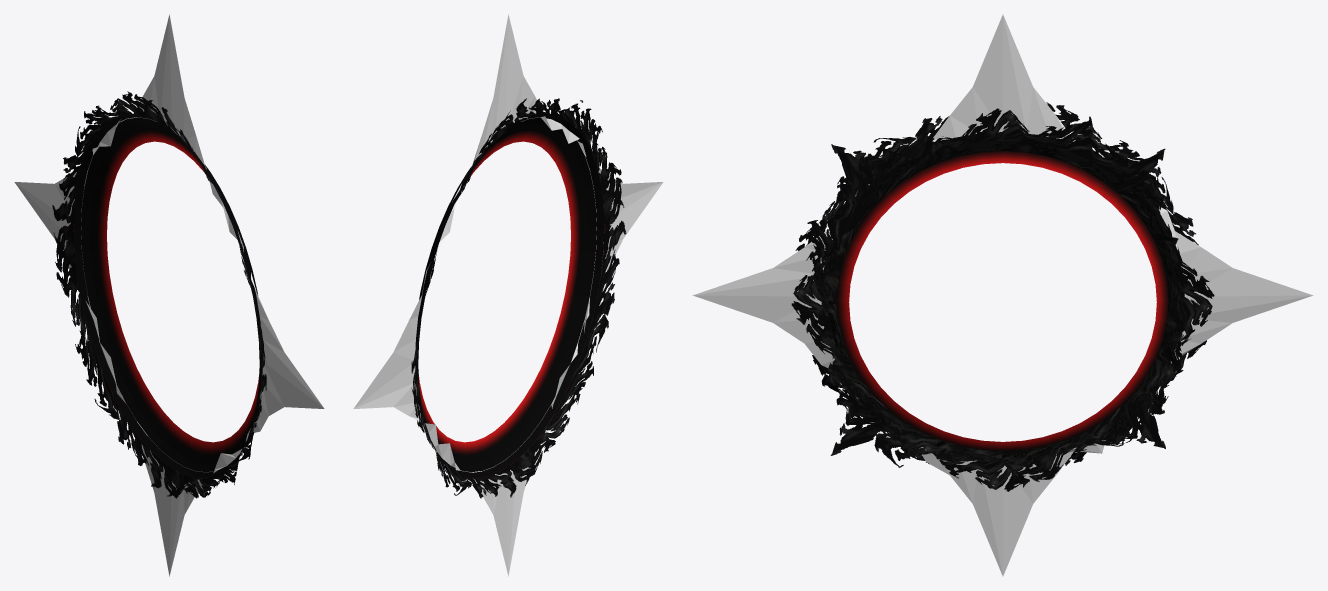
File: BigBossARing.obj
3 views of the same model, side by side, from view 1: azimuth 30°, elevation 25°; view 2: azimuth 150°, elevation 25°; view 3: azimuth 270°, elevation 25° (orthographic).
Parts seen in each view (by area): view 1: rdmobj01, rdmobj00, rdmobj02; view 2: rdmobj01, rdmobj00, rdmobj02; view 3: rdmobj02, rdmobj00, rdmobj01.
Boxes of the visible parts, left/top/right/bottom form: rdmobj01: left=73, top=114, right=262, bottom=477; rdmobj00: left=14, top=14, right=324, bottom=576; rdmobj02: left=52, top=91, right=266, bottom=498; rdmobj01: left=415, top=114, right=604, bottom=477; rdmobj00: left=353, top=14, right=663, bottom=576; rdmobj02: left=411, top=98, right=626, bottom=498; rdmobj02: left=791, top=102, right=1214, bottom=491; rdmobj00: left=692, top=14, right=1313, bottom=576; rdmobj01: left=821, top=132, right=1184, bottom=457.
Bounding box in the file's own units: 242 × 4315 × 4315.
Materials: 3 (2 with a texture image).
